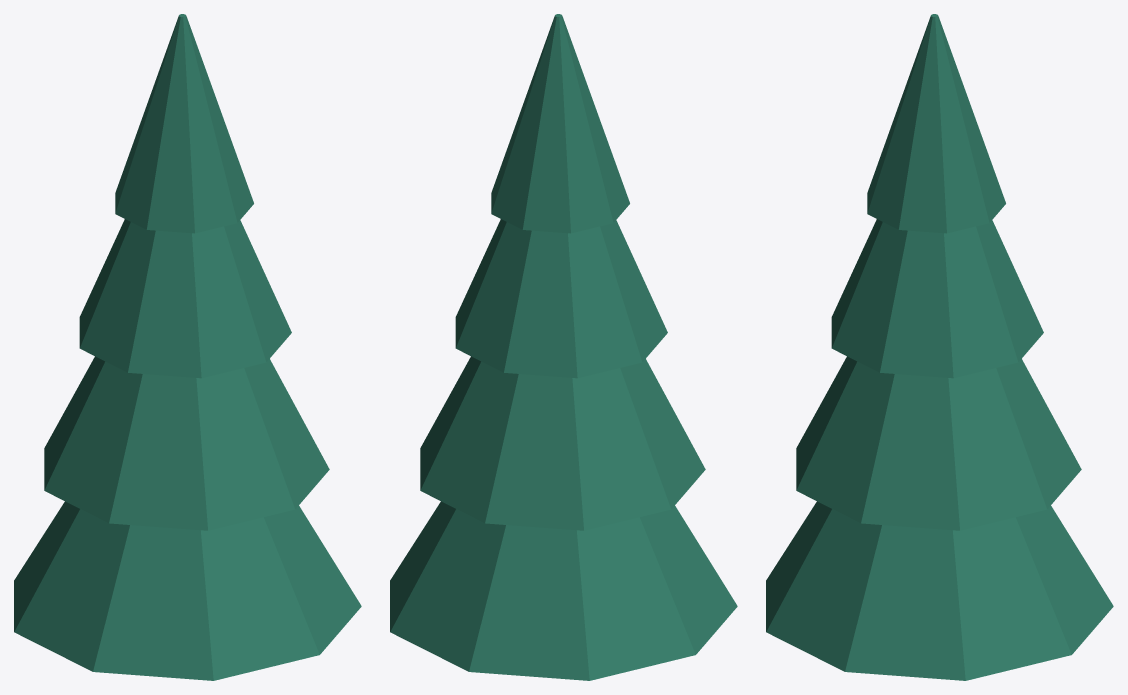
File: pine-tree.glb
3 renders of one model, left to right at view 1: azimuth 30°, elevation 25°; view 2: azimuth 150°, elevation 25°; view 3: azimuth 270°, elevation 25°, orthographic.
Visible parts, largest first — view 1: Pine bough layer 0, Pine bough layer 1, Pine bough layer 2, Pine bough layer 3; view 2: Pine bough layer 0, Pine bough layer 1, Pine bough layer 2, Pine bough layer 3; view 3: Pine bough layer 0, Pine bough layer 1, Pine bough layer 2, Pine bough layer 3.
Part boxes in pixels (box(x1,y1,x2,y2)): Pine bough layer 0: box(14, 501, 361, 680); Pine bough layer 1: box(44, 356, 329, 530); Pine bough layer 2: box(79, 219, 291, 378); Pine bough layer 3: box(115, 14, 253, 233); Pine bough layer 0: box(390, 501, 737, 680); Pine bough layer 1: box(420, 356, 705, 530); Pine bough layer 2: box(455, 219, 667, 378); Pine bough layer 3: box(491, 14, 629, 233); Pine bough layer 0: box(766, 501, 1113, 680); Pine bough layer 1: box(796, 356, 1081, 530); Pine bough layer 2: box(831, 219, 1043, 378); Pine bough layer 3: box(867, 14, 1005, 233).
Bounding box in the file's own units: 1.87 × 3.73 × 1.84.
